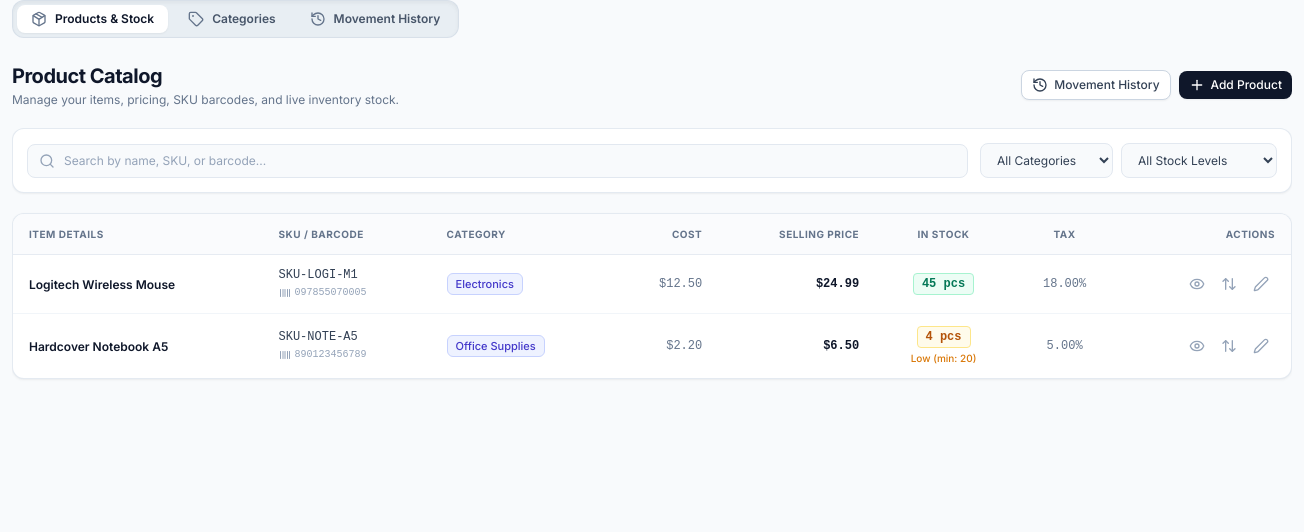
BUSINESSFLOW — Stage 4 Products & Inventory Component Tests › InventoryPage Master Container › should switch between Products, Categories, and Movement History tabs
Expected: the heading "Product Catalog" is shown, [12,64,162,88]
// Switch to Categories tab
Click the button "Categories": (232, 19) [174,5,290,33]
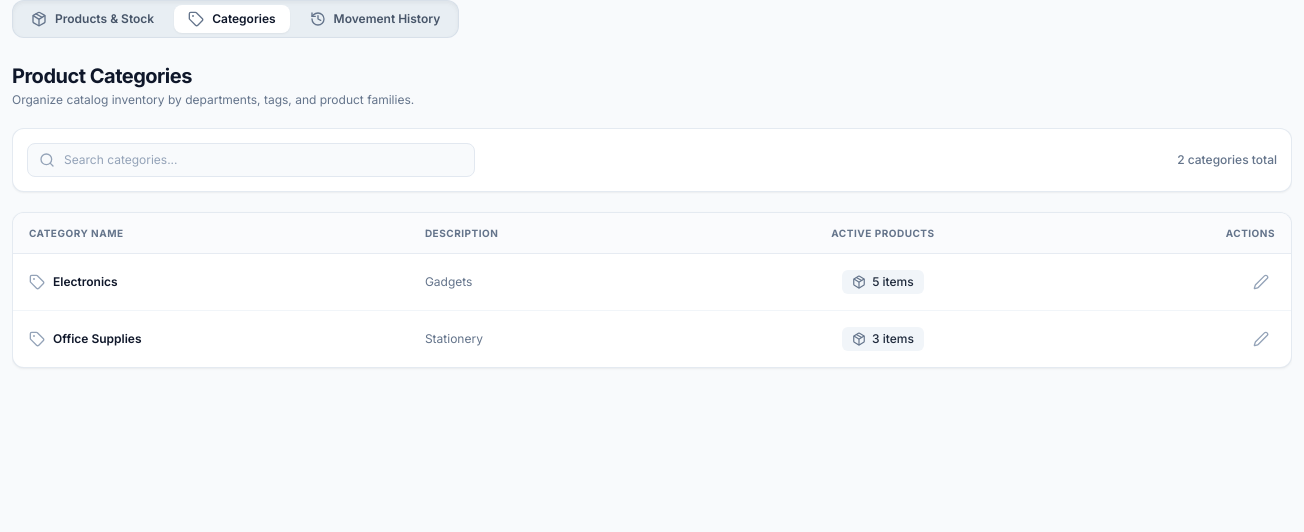
Expected: the heading "Product Categories" is shown, [12,64,192,88]
// Switch to Movement History tab
Click the button "Movement History": (375, 19) [296,5,454,33]
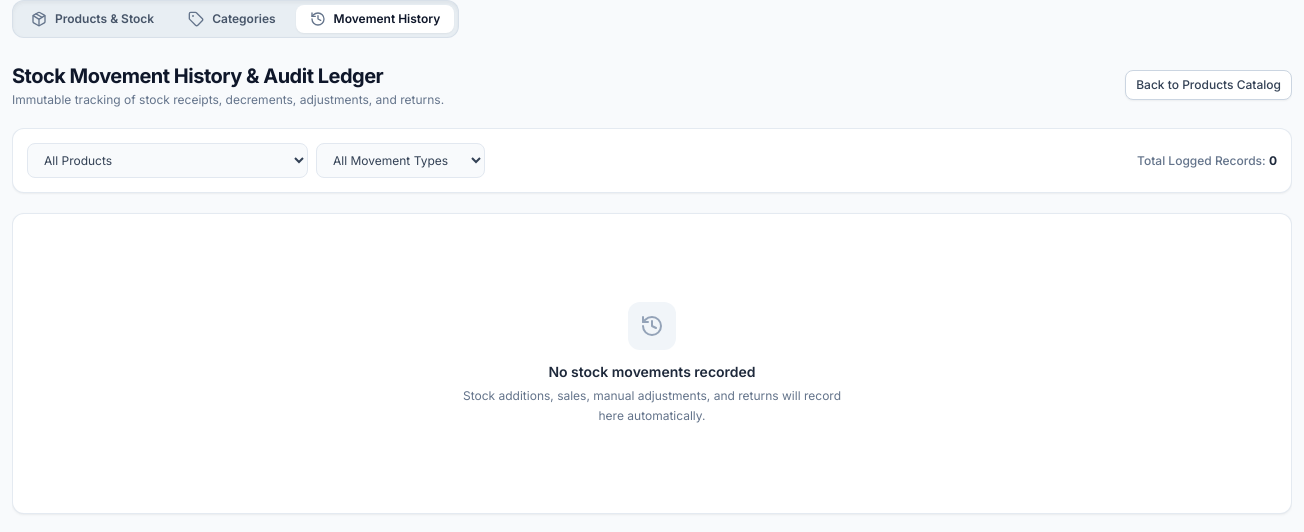
Expected: the heading "Stock Movement History & Audit Ledger" is shown, [12,62,444,90]
